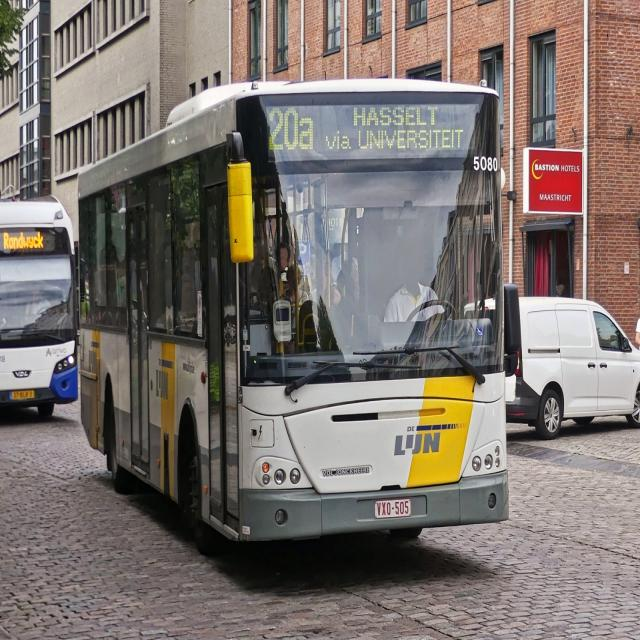bus-number: (266, 108, 316, 154)
